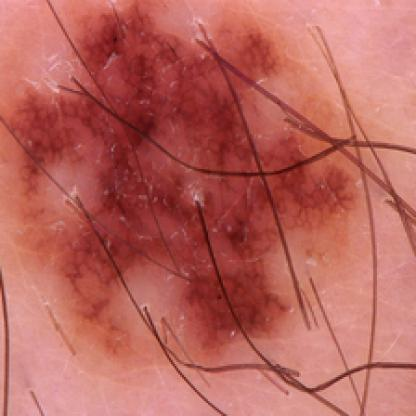benign: (22, 13, 362, 353)
